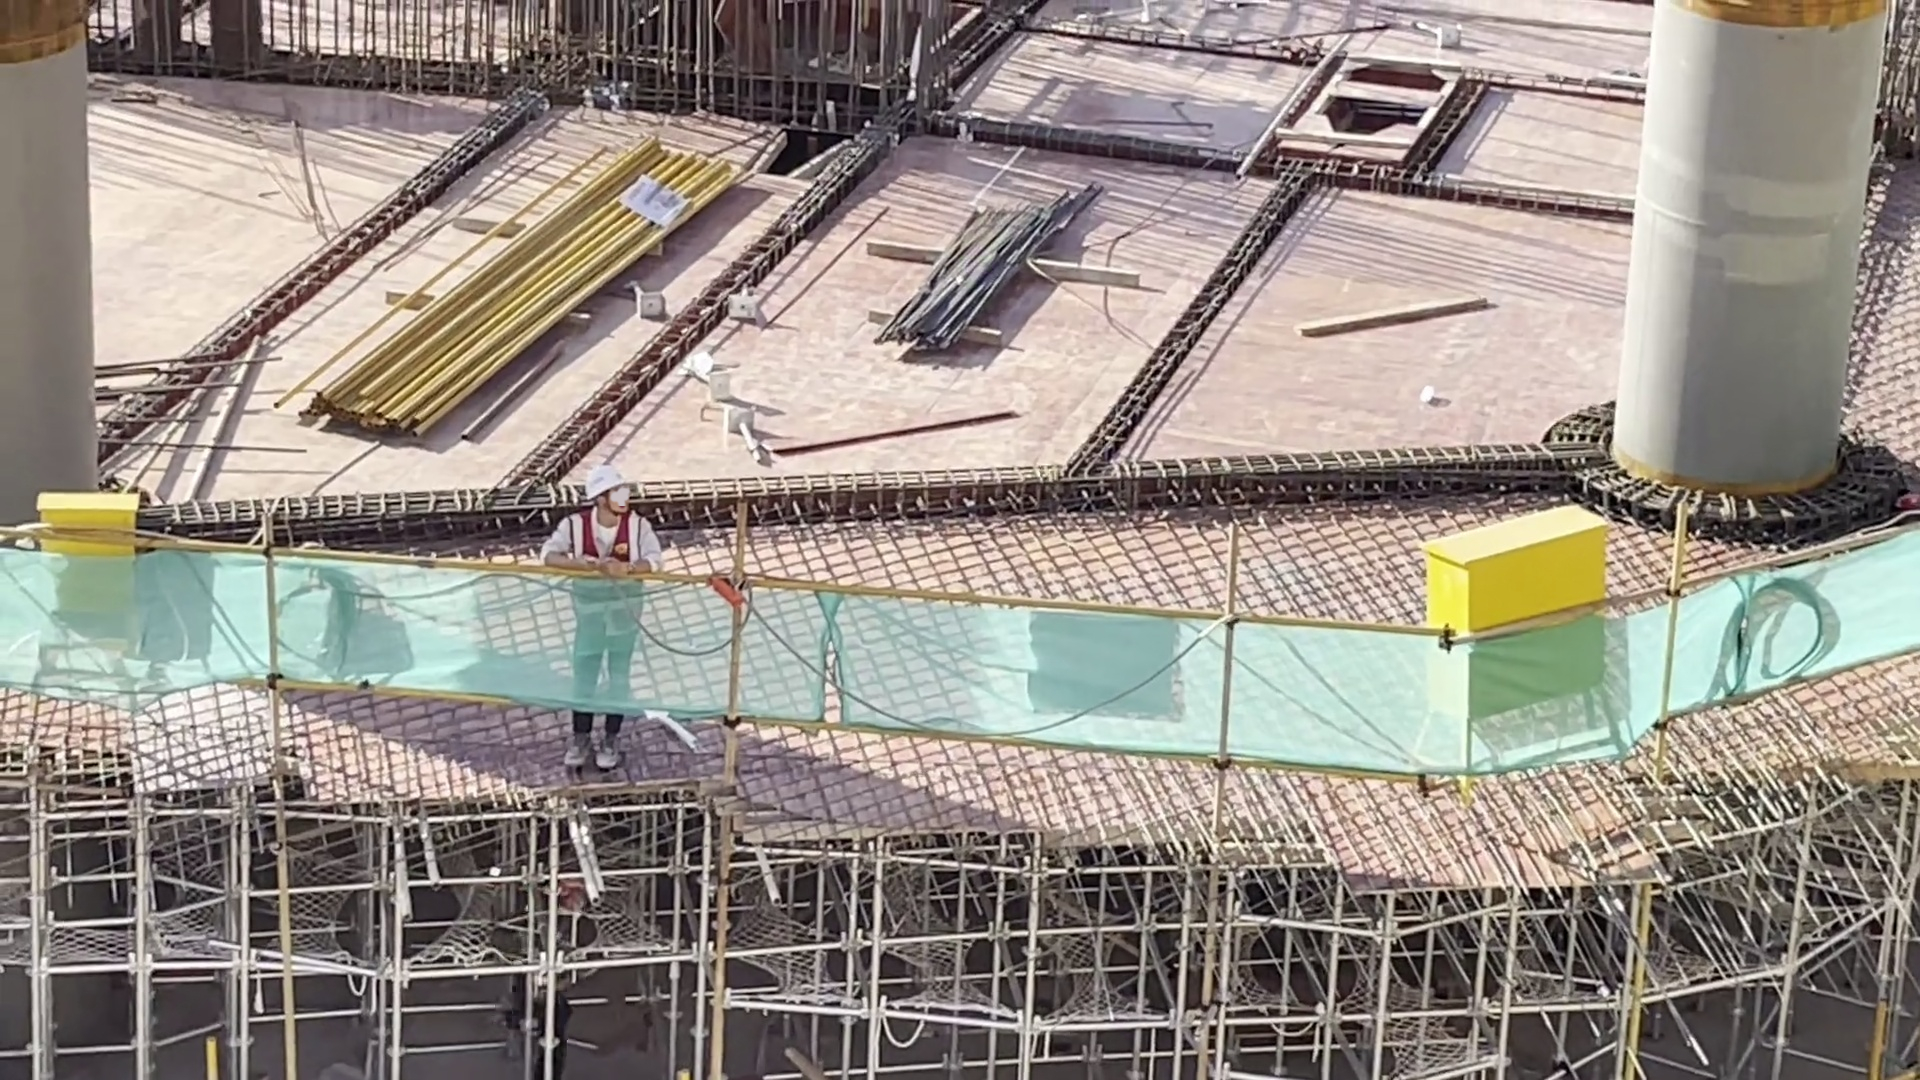ebox: (29, 447, 138, 602), (1419, 514, 1558, 627)
helmet: (546, 866, 603, 897), (589, 456, 634, 491)
person: (541, 441, 656, 738), (519, 863, 605, 1080)
rebar: (892, 209, 1093, 332)
vest: (571, 511, 646, 654), (551, 902, 599, 1034)
